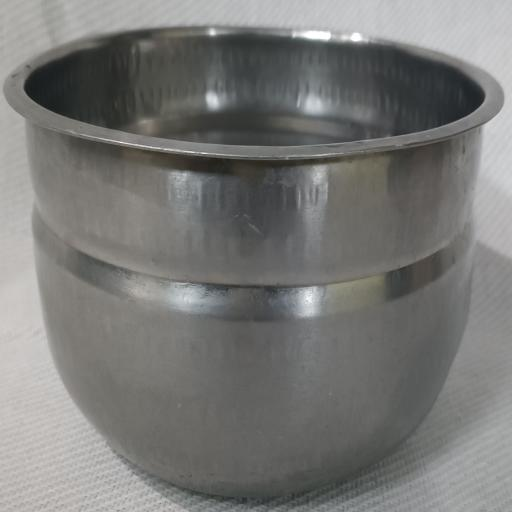vessel: (4, 28, 503, 496)
